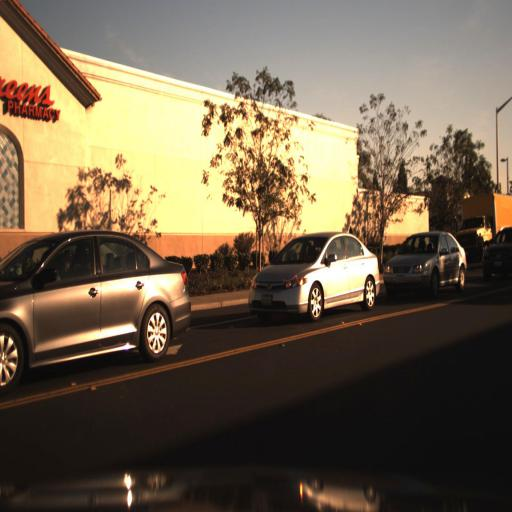car: (0, 230, 195, 394), (238, 232, 380, 324), (249, 228, 379, 322), (379, 229, 469, 301), (479, 226, 511, 288)
truck: (461, 190, 511, 266)
